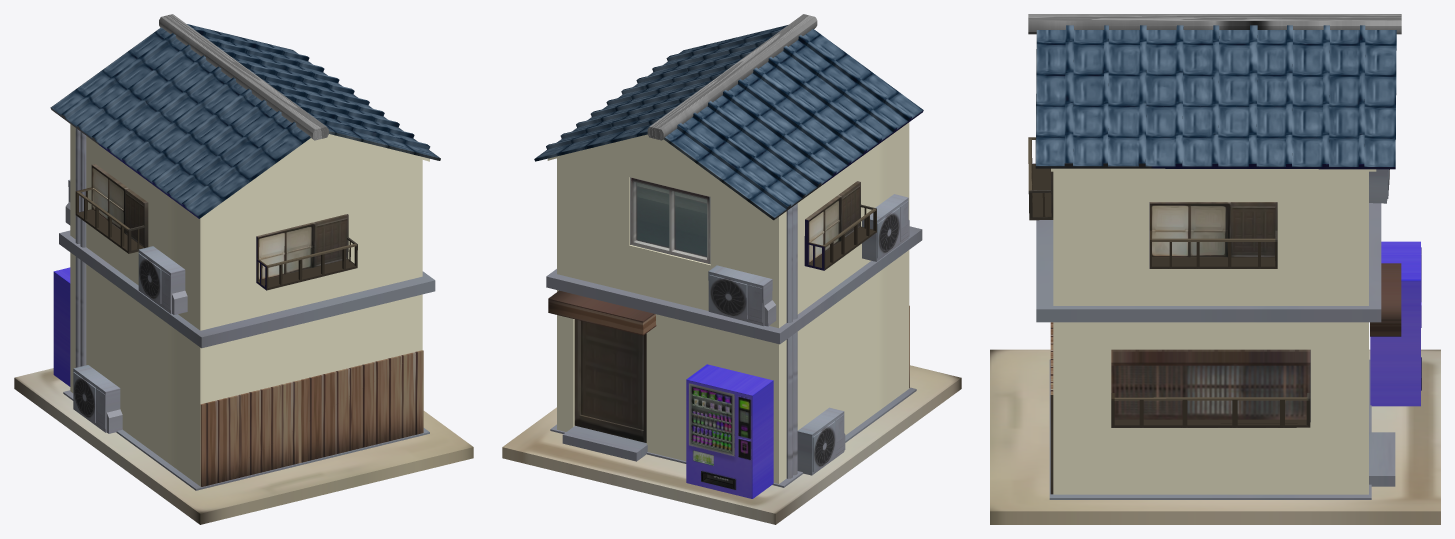
The model's file is japanese_house.glb.
3 views of the same model, side by side, from view 1: azimuth 30°, elevation 25°; view 2: azimuth 150°, elevation 25°; view 3: azimuth 270°, elevation 25° (orthographic). The views are drawn at different scales.
Parts seen in each view (by area): view 1: Object_5, Object_2, Object_8, Object_6, Object_9, Object_3; view 2: Object_5, Object_2, Object_8, Object_9, Object_6, Object_7, Object_4, Object_3; view 3: Object_5, Object_8, Object_9, Object_6, Object_7.
Boxes of the visible parts, box(x1,y1,x2,y2) form: Object_5: box(63, 14, 440, 490); Object_2: box(50, 27, 310, 218); Object_8: box(14, 368, 473, 524); Object_6: box(59, 230, 435, 433); Object_9: box(53, 267, 70, 386); Object_3: box(75, 128, 80, 367); Object_5: box(534, 14, 916, 487); Object_2: box(663, 29, 923, 220); Object_8: box(502, 290, 961, 524); Object_9: box(686, 364, 773, 498); Object_6: box(546, 226, 922, 475); Object_7: box(574, 319, 646, 442); Object_4: box(630, 177, 710, 264); Object_3: box(786, 207, 792, 478); Object_5: box(1028, 14, 1401, 499); Object_8: box(990, 263, 1440, 524); Object_9: box(1111, 241, 1421, 421); Object_6: box(1036, 203, 1381, 322); Object_7: box(1149, 202, 1277, 268).
Size of the model in its own units: 2.4 by 2.94 by 2.82.
8 materials, 8 textured.
